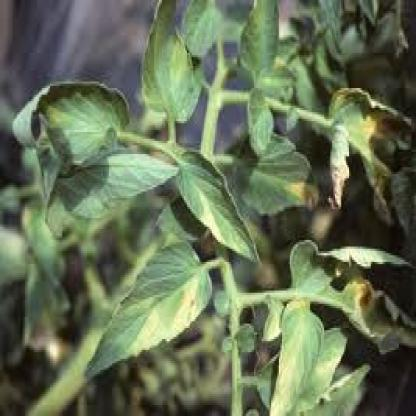Tomato mold leaf: (84, 242, 216, 383), (178, 150, 266, 275), (23, 83, 137, 167), (232, 130, 330, 218), (142, 7, 204, 132), (268, 310, 326, 414)
